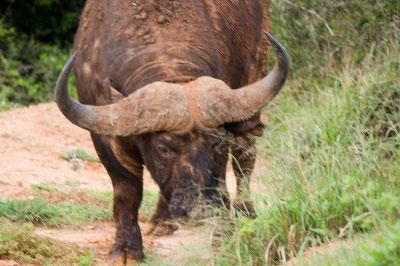Buffalo: (49, 2, 322, 241)
